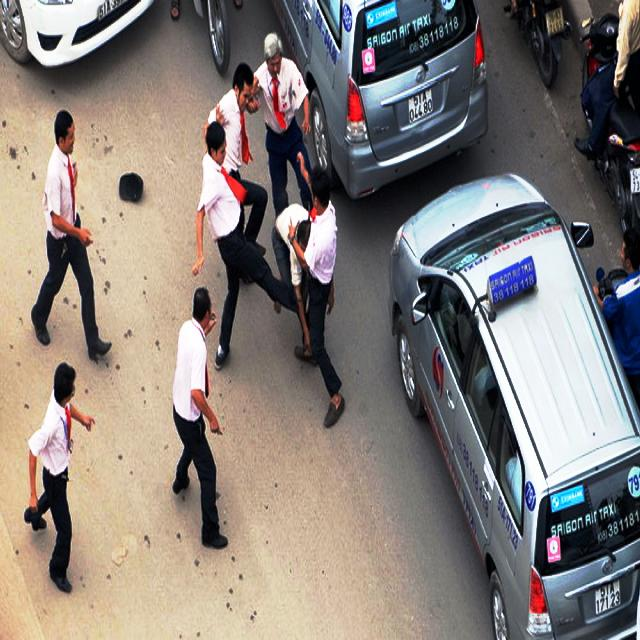license_plate: (409, 88, 435, 125), (596, 580, 622, 615)
